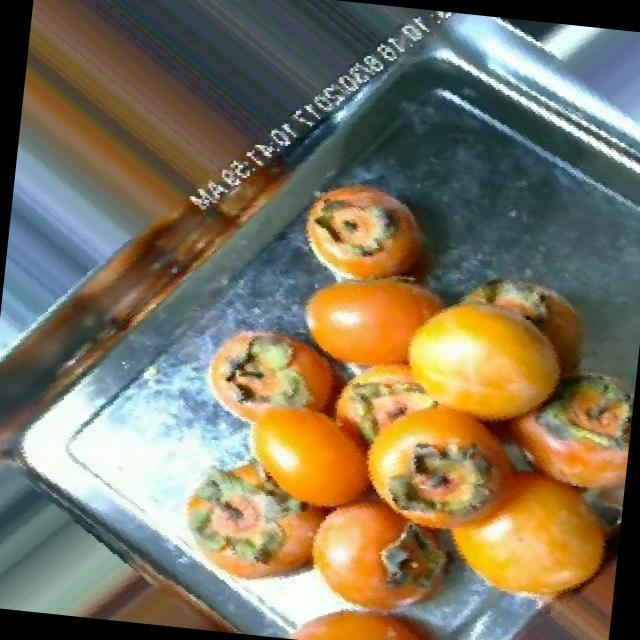Fruit: (273, 154, 468, 312), (266, 586, 466, 640)
